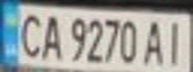0: (118, 16, 142, 65)
2: (84, 15, 106, 63)
7: (103, 15, 124, 64)
9: (63, 12, 87, 63)
A: (139, 16, 169, 66), (36, 10, 66, 60)
C: (12, 9, 45, 60)
I: (160, 17, 190, 68)
